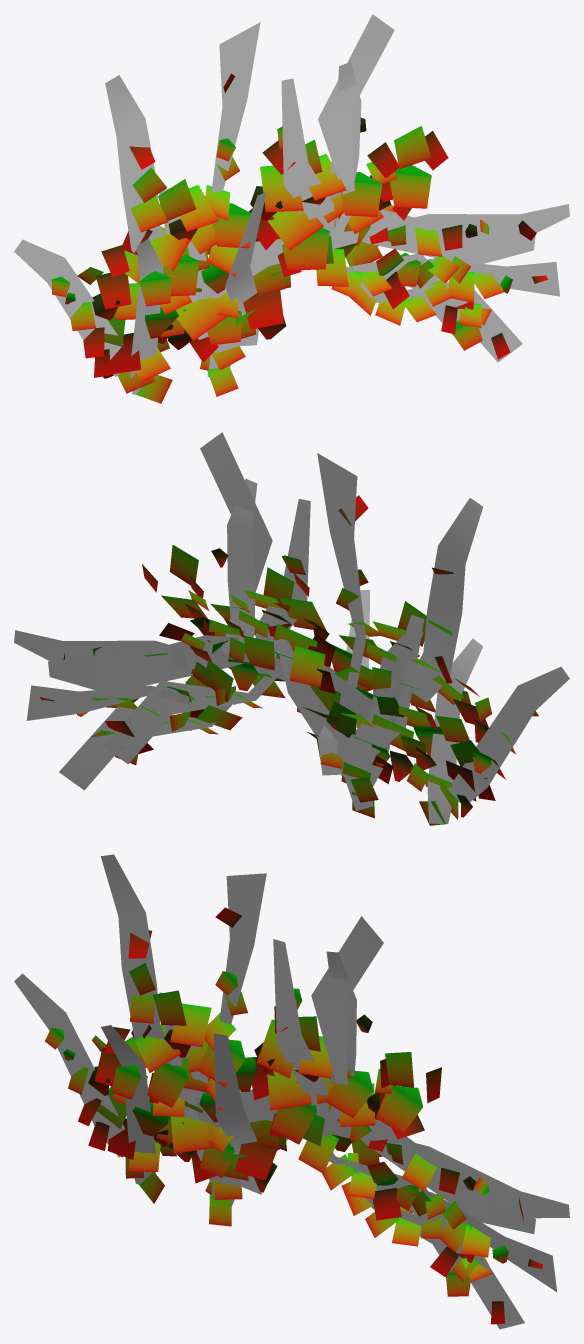
Rendered from lierre_var_4_lod.fbx.
3 renders of one model, top to bottom at view 1: azimuth 30°, elevation 25°; view 2: azimuth 150°, elevation 25°; view 3: azimuth 330°, elevation 25°, orthographic.
Visible parts, largest first — view 1: _4bc0_Var4_LOD3; view 2: _4bc0_Var4_LOD3; view 3: _4bc0_Var4_LOD3.
Part boxes in pixels (<box>): _4bc0_Var4_LOD3: <box>14,14,569,403</box>; _4bc0_Var4_LOD3: <box>14,432,569,825</box>; _4bc0_Var4_LOD3: <box>14,854,569,1329</box>.
Bounding box in the file's own units: 97.06 × 66.16 × 9.8.
